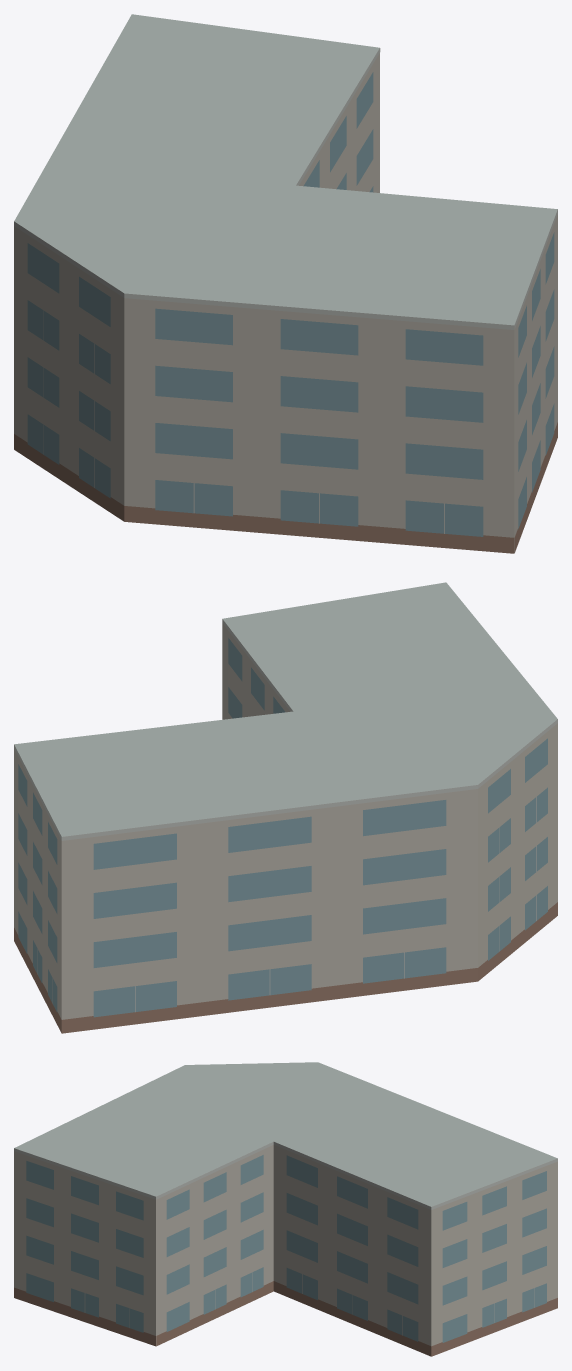
The model's file is survey-upis-32777624.glb.
The picture shows the model from 3 angles, top to bottom: view 1: azimuth 30°, elevation 25°; view 2: azimuth 150°, elevation 25°; view 3: azimuth 270°, elevation 25°; orthographic projection. The views are drawn at different scales.
Parts seen in each view (by area): view 1: survey-upis-32777624.tmp; view 2: survey-upis-32777624.tmp; view 3: survey-upis-32777624.tmp.
Boxes of the visible parts, x1,y1,x2,y2 form: survey-upis-32777624.tmp: (14, 14, 557, 553); survey-upis-32777624.tmp: (14, 582, 557, 1033); survey-upis-32777624.tmp: (14, 1062, 557, 1356).
Size of the model in its own units: 24.68 by 11.9 by 39.17.
